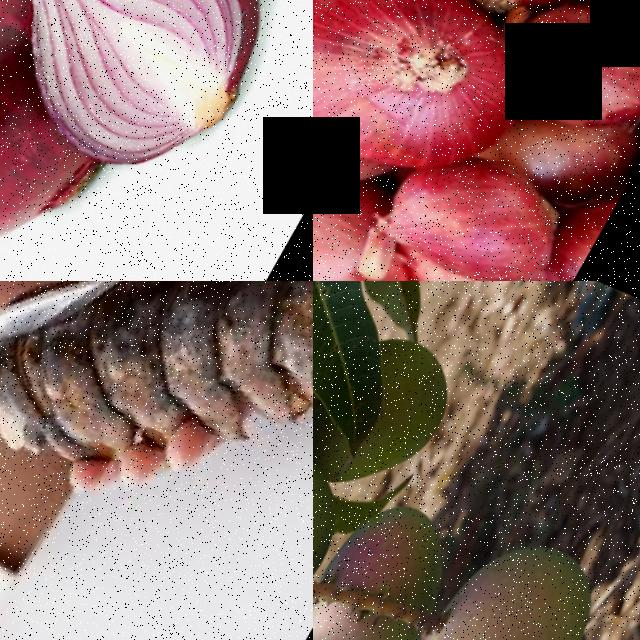lobster tails: (163, 281, 313, 513)
mango: (396, 521, 632, 640), (345, 340, 484, 507), (328, 489, 490, 626), (313, 419, 379, 601)
onion: (313, 0, 578, 213), (0, 0, 313, 168), (0, 13, 143, 281), (370, 144, 595, 281), (505, 0, 640, 155), (313, 158, 424, 281), (393, 0, 607, 38)
